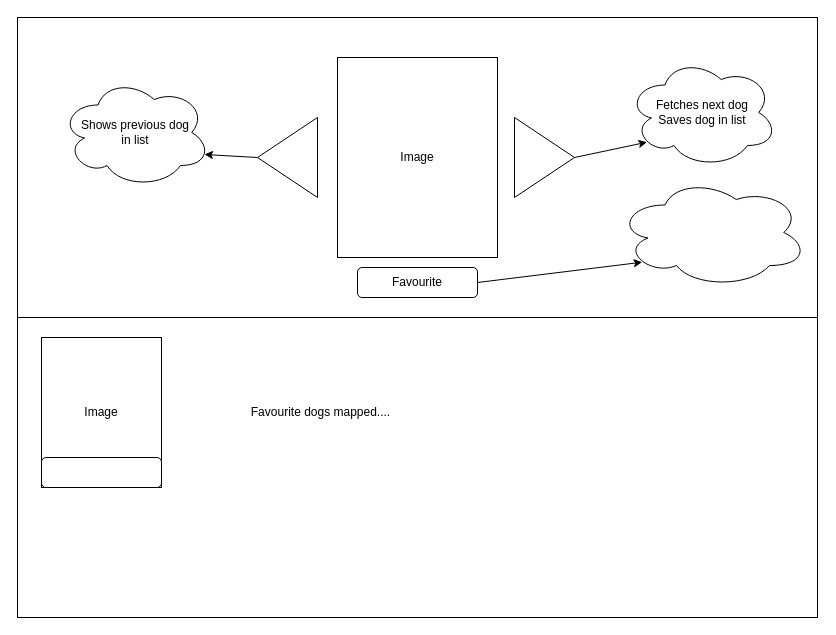
This 836x635 diagram has some shape labels left out. The shapes that lost their labels are listed below. From the top down, each one's centre as x and y in pixels, then its label:
[712,232]: Saves dog to favourites
[101,472]: Unfavourite
